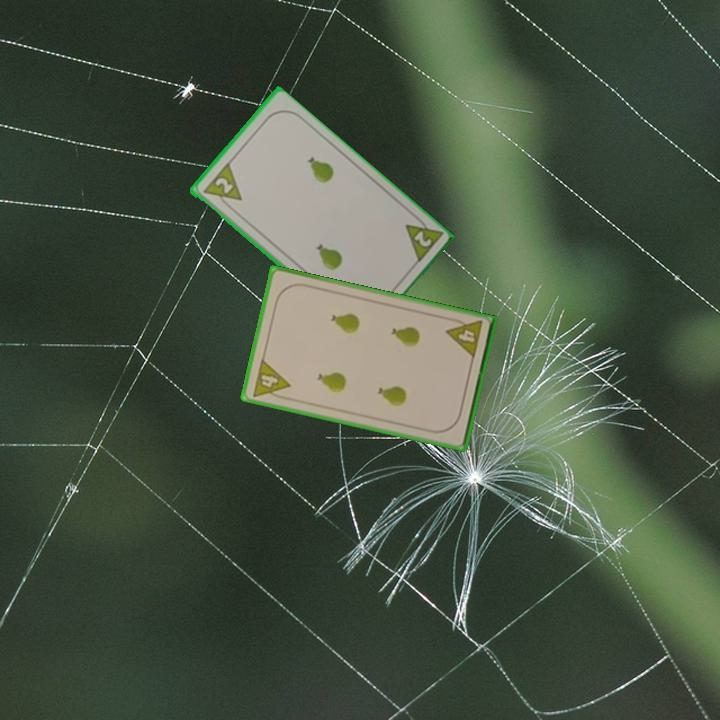2p: (401, 211, 445, 267), (199, 160, 244, 213)
4p: (249, 355, 293, 403), (443, 314, 485, 361)
